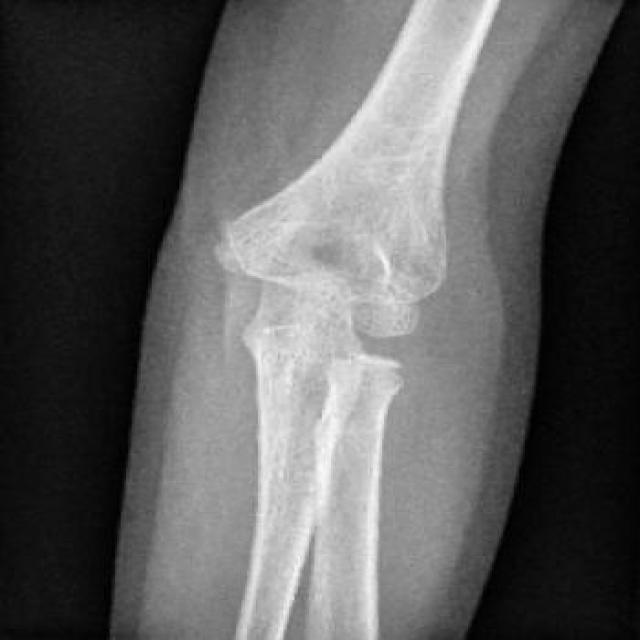Fracture: (334, 311, 440, 392)
